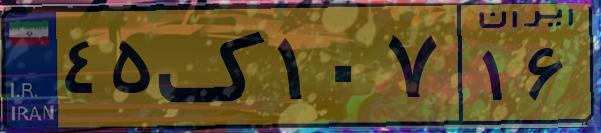0: (330, 28, 385, 110)
1: (270, 28, 330, 110), (475, 38, 525, 113)
4: (57, 26, 110, 100)
5: (110, 28, 158, 98)
6: (525, 38, 570, 115)
7: (385, 28, 445, 110)
ک: (158, 12, 270, 120)
